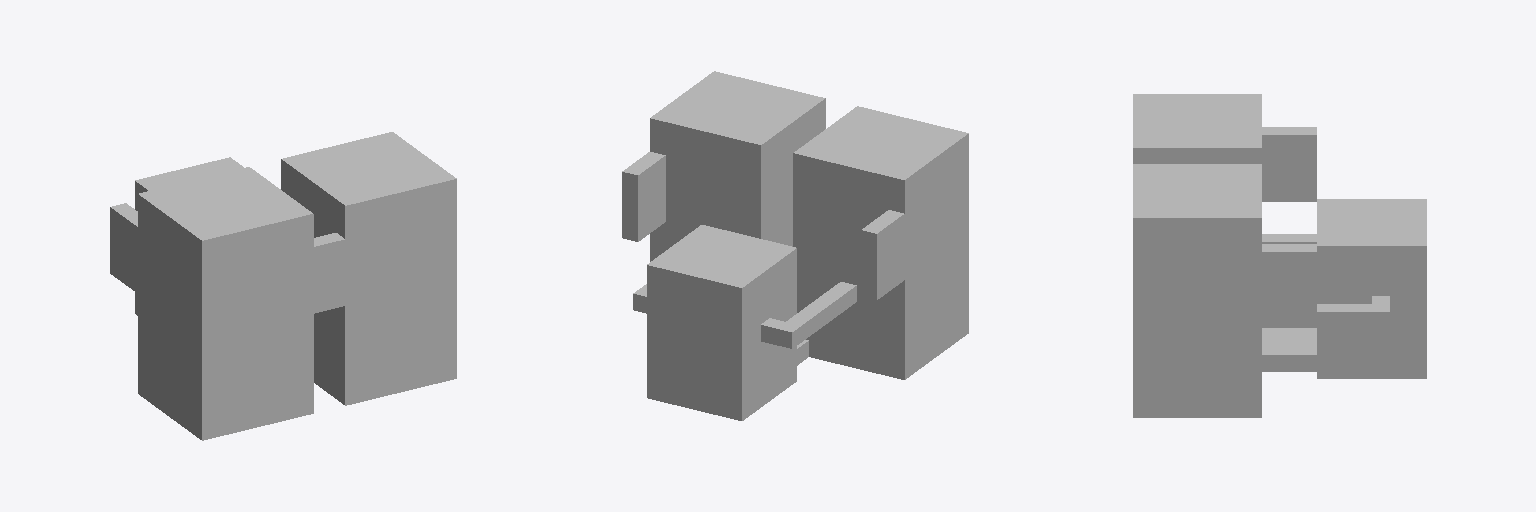
The model's file is thermopneumaticProcessingPlant.obj.
3 renders of one model, left to right at view 1: azimuth 30°, elevation 25°; view 2: azimuth 150°, elevation 25°; view 3: azimuth 270°, elevation 25°, orthographic.
Bounding box in the file's own units: 1 × 0.75 × 1.